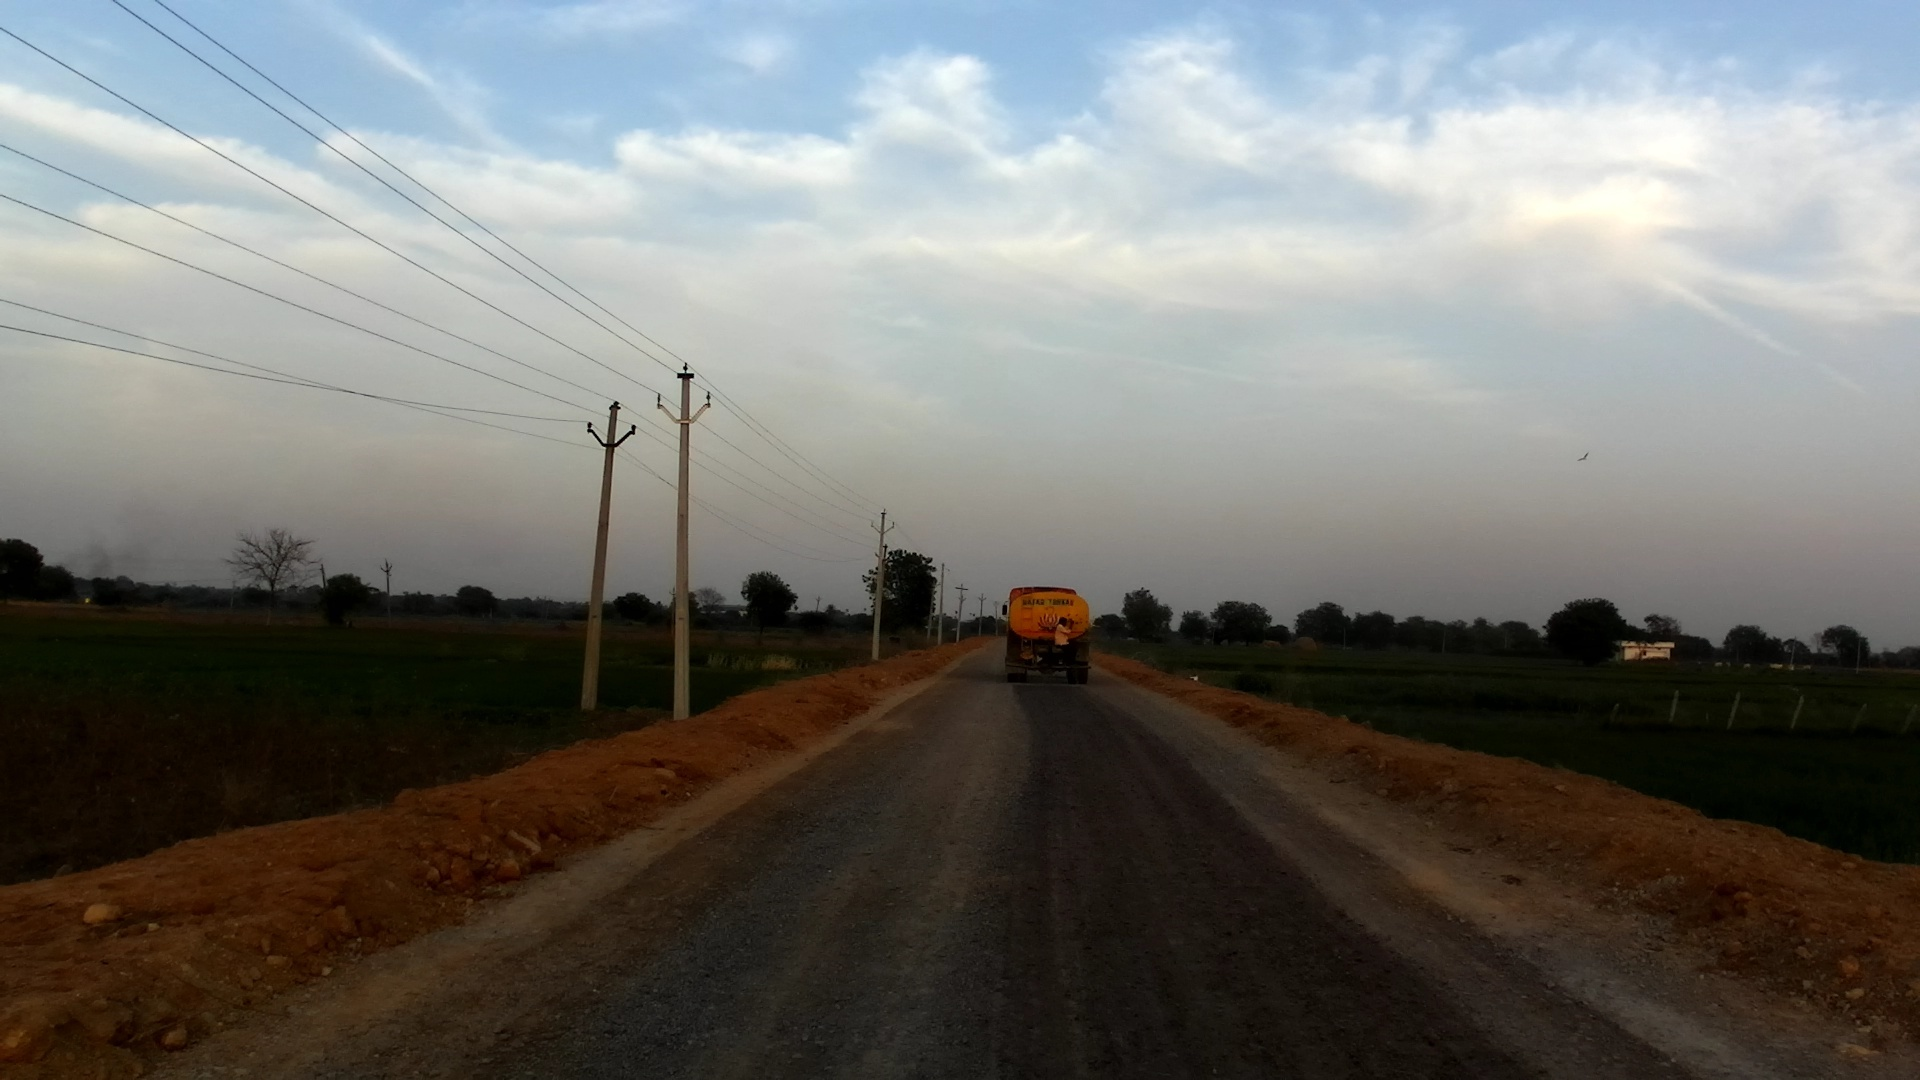rider: (1049, 616, 1078, 673)
truck: (1000, 584, 1092, 692)
